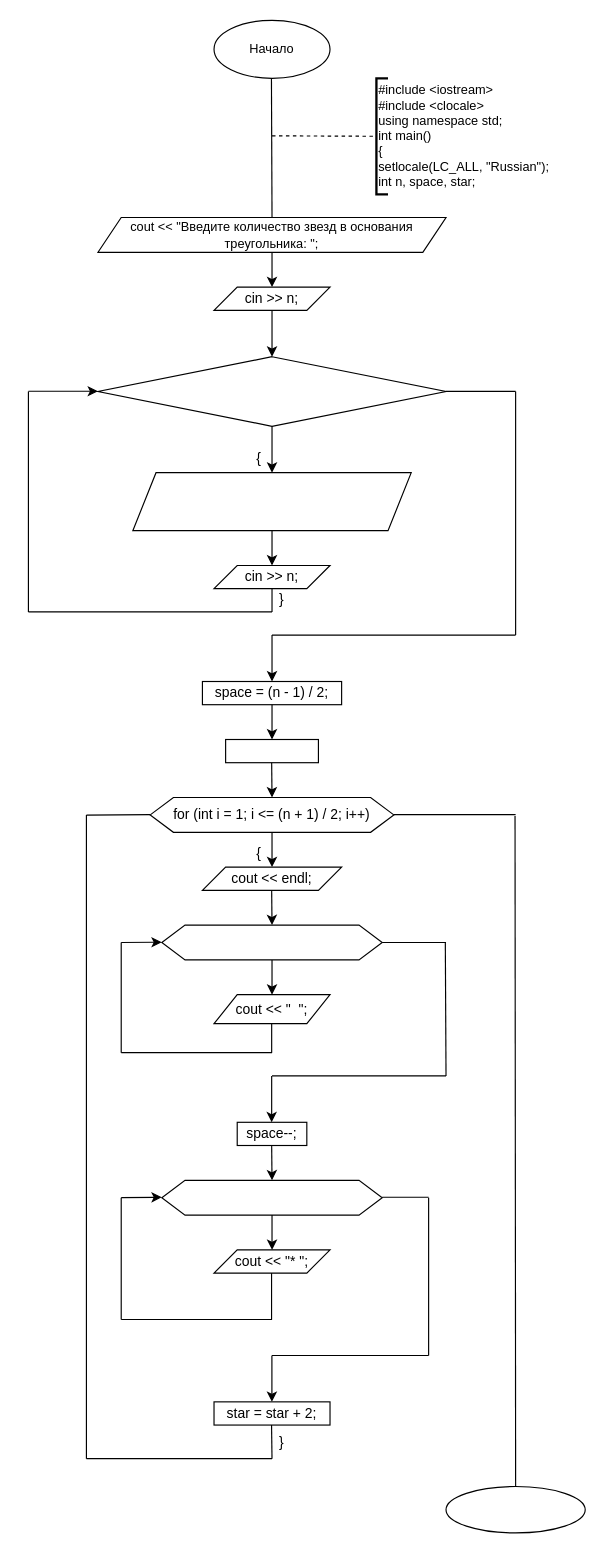
The diagram is 606 pixels wide and 1553 high, and some of its shapes have lost their labels. Each missing label, with the box of its shape:
cout << "Ваше значение не подходит, введите новое: ";: (132, 472, 411, 531)
for (int j = 1; j <= space; j++): (161, 924, 382, 960)
for (int k = 1; k <= star; k++): (161, 1179, 382, 1215)
return 0; }: (445, 1485, 585, 1533)
star = 1;: (224, 738, 318, 763)
while (!((n > 0) && (n % 2 == 1) && (n > 3))): (97, 356, 446, 426)
